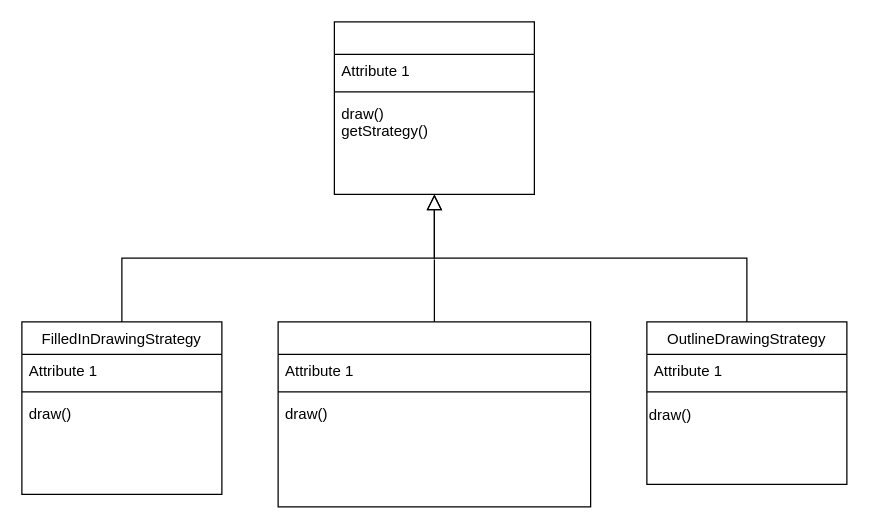
Image size: 869x529. Some labels were removed from this diagram. Here are the shapes that lost their labels. From the top down, the box of each, then its label:
(333, 21, 534, 194): DrawingStrategy
(277, 321, 591, 507): OutlineAndFilledInDrawingStrategy
